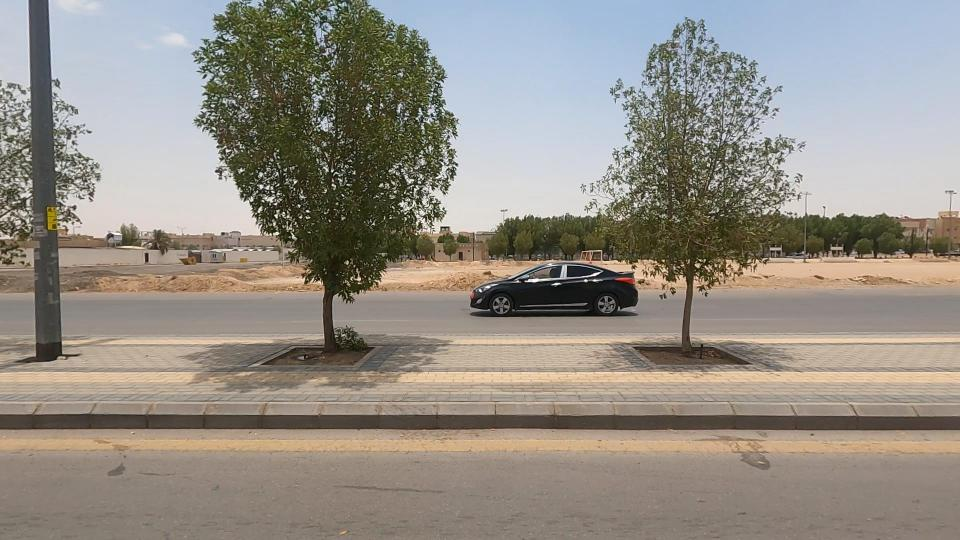GARBAGE: (266, 332, 338, 389)
